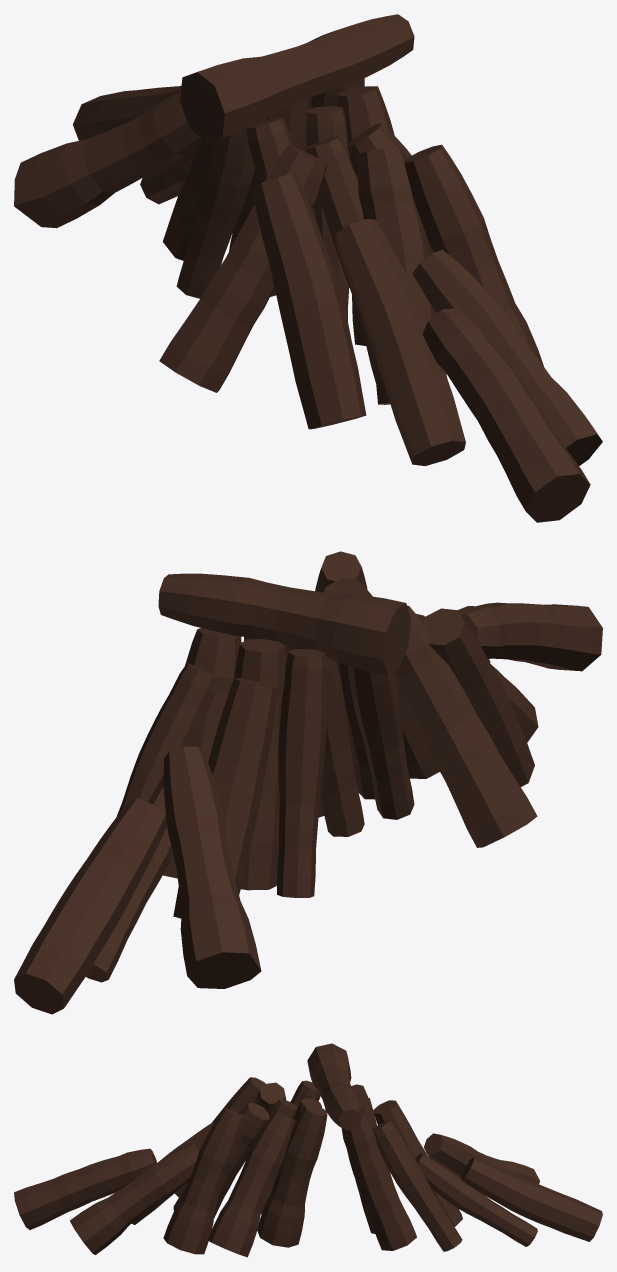
The model's file is blocked_path_static.fbx.
3 renders of one model, top to bottom at view 1: azimuth 30°, elevation 25°; view 2: azimuth 150°, elevation 25°; view 3: azimuth 270°, elevation 25°, orthographic. The views are drawn at different scales.
Visible parts, largest first — view 1: Icosphere.009; view 2: Icosphere.009; view 3: Icosphere.009.
Part boxes in pixels (left/top/right/bottom): Icosphere.009: left=14, top=14, right=602, bottom=522; Icosphere.009: left=14, top=551, right=602, bottom=1014; Icosphere.009: left=14, top=1043, right=602, bottom=1257.
Bounding box in the file's own units: 466 × 407 × 1298.
